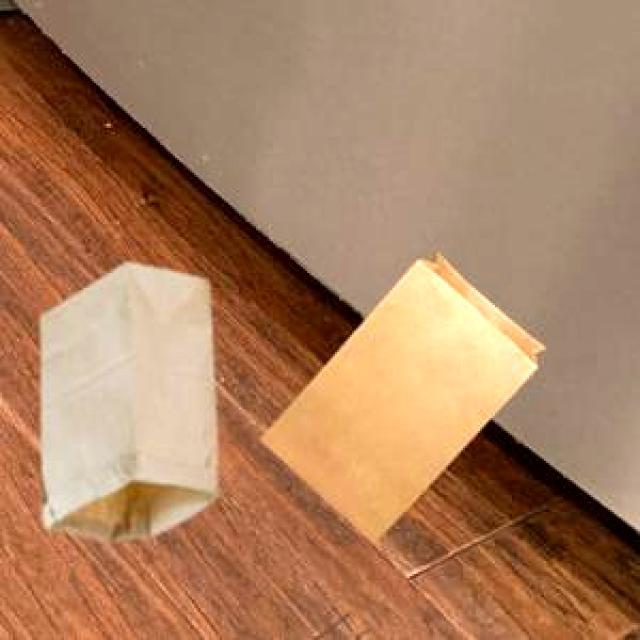Paper_Bag: (259, 251, 541, 538), (38, 259, 214, 537)
